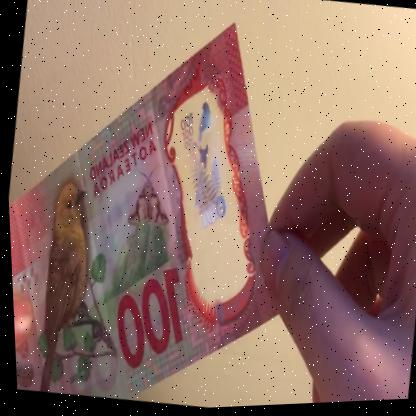100B: (159, 94, 242, 246)
